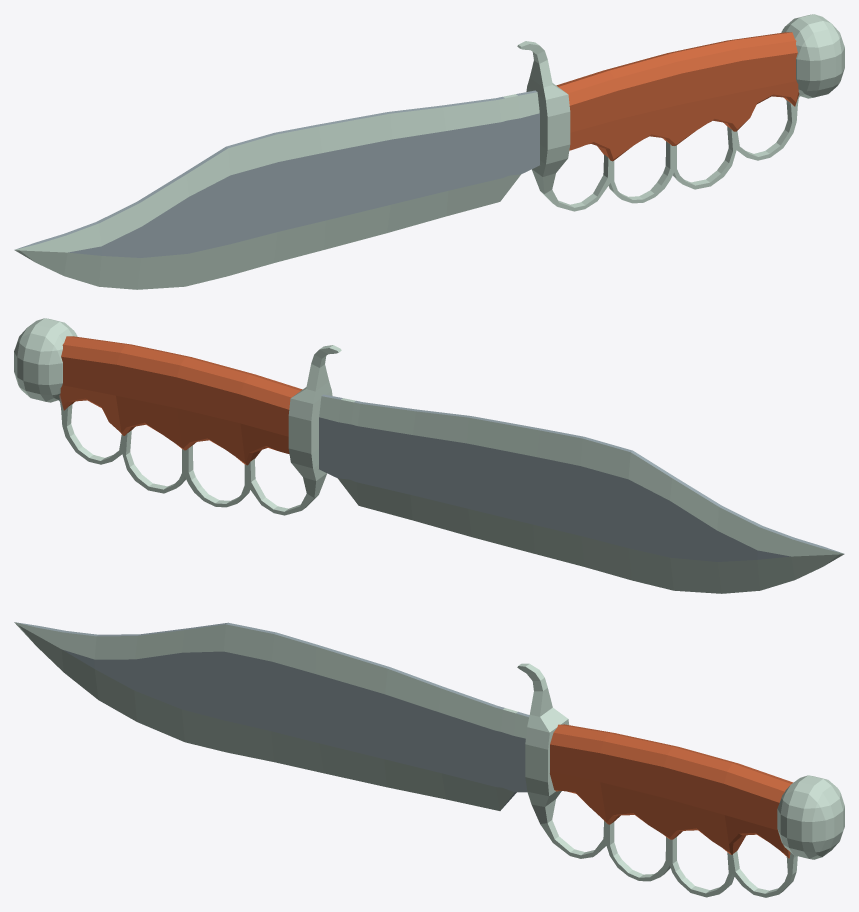
File: Knife.fbx
The picture shows the model from 3 angles, top to bottom: view 1: azimuth 30°, elevation 25°; view 2: azimuth 150°, elevation 25°; view 3: azimuth 330°, elevation 25°; orthographic projection.
Parts seen in each view (by area): view 1: Knife; view 2: Knife; view 3: Knife.
Part boxes in pixels (x1,y1,x2,y2): Knife: (14,14,844,289); Knife: (14,318,844,593); Knife: (14,622,844,897).
Bounding box in the file's own units: 459 × 99.21 × 32.55.
